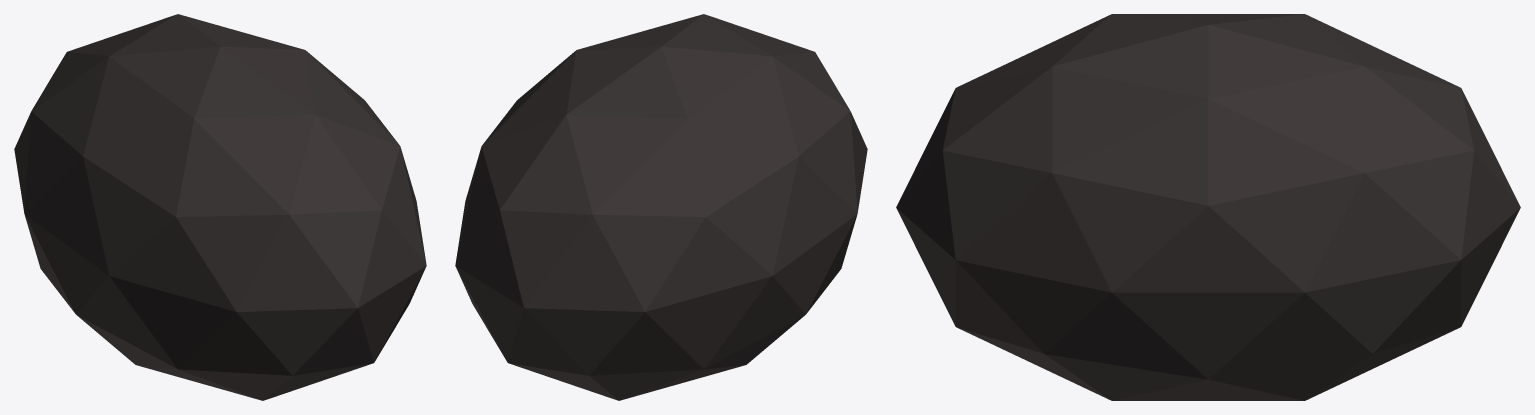
File: Coffe_bean.fbx
3 renders of one model, left to right at view 1: azimuth 30°, elevation 25°; view 2: azimuth 150°, elevation 25°; view 3: azimuth 270°, elevation 25°, orthographic. The views are drawn at different scales.
Parts seen in each view (by area): view 1: Coffe_bean; view 2: Coffe_bean; view 3: Coffe_bean.
Boxes of the visible parts, x1,y1,x2,y2 form: Coffe_bean: [14, 14, 426, 400]; Coffe_bean: [455, 14, 867, 400]; Coffe_bean: [896, 14, 1520, 400].
Bounding box in the file's own units: 1 × 1 × 1.55.
1 material, 1 textured.
